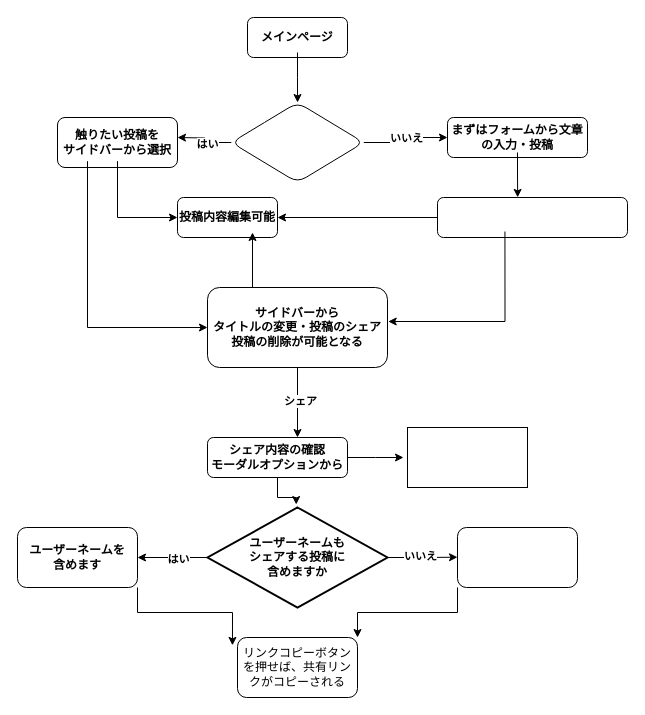
Image size: 645x715. Some labels were removed from this diagram. The shapes that lost their labels are listed below. From the top down, each one's centre as x and y in pixels, then its label:
At point (297, 142): "投稿はありますか".
At point (532, 217): "投稿すると自動的にサイドバーに無名のタイトルが生成される".
At point (467, 457): "共有リンクが既にあれば削除できる".
At point (517, 557): "含めない投稿".
